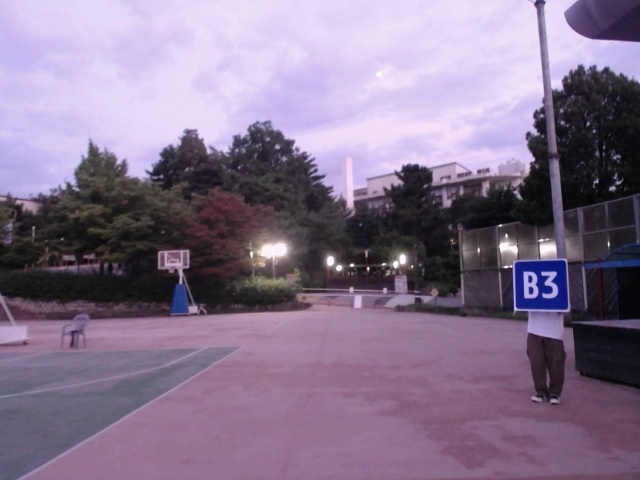delivery_b3: (513, 259, 570, 314)
